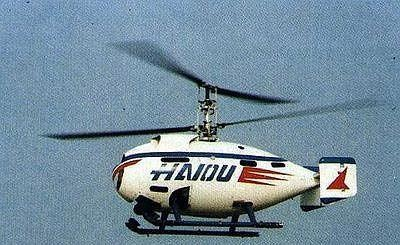airplane: (40, 39, 360, 239)
